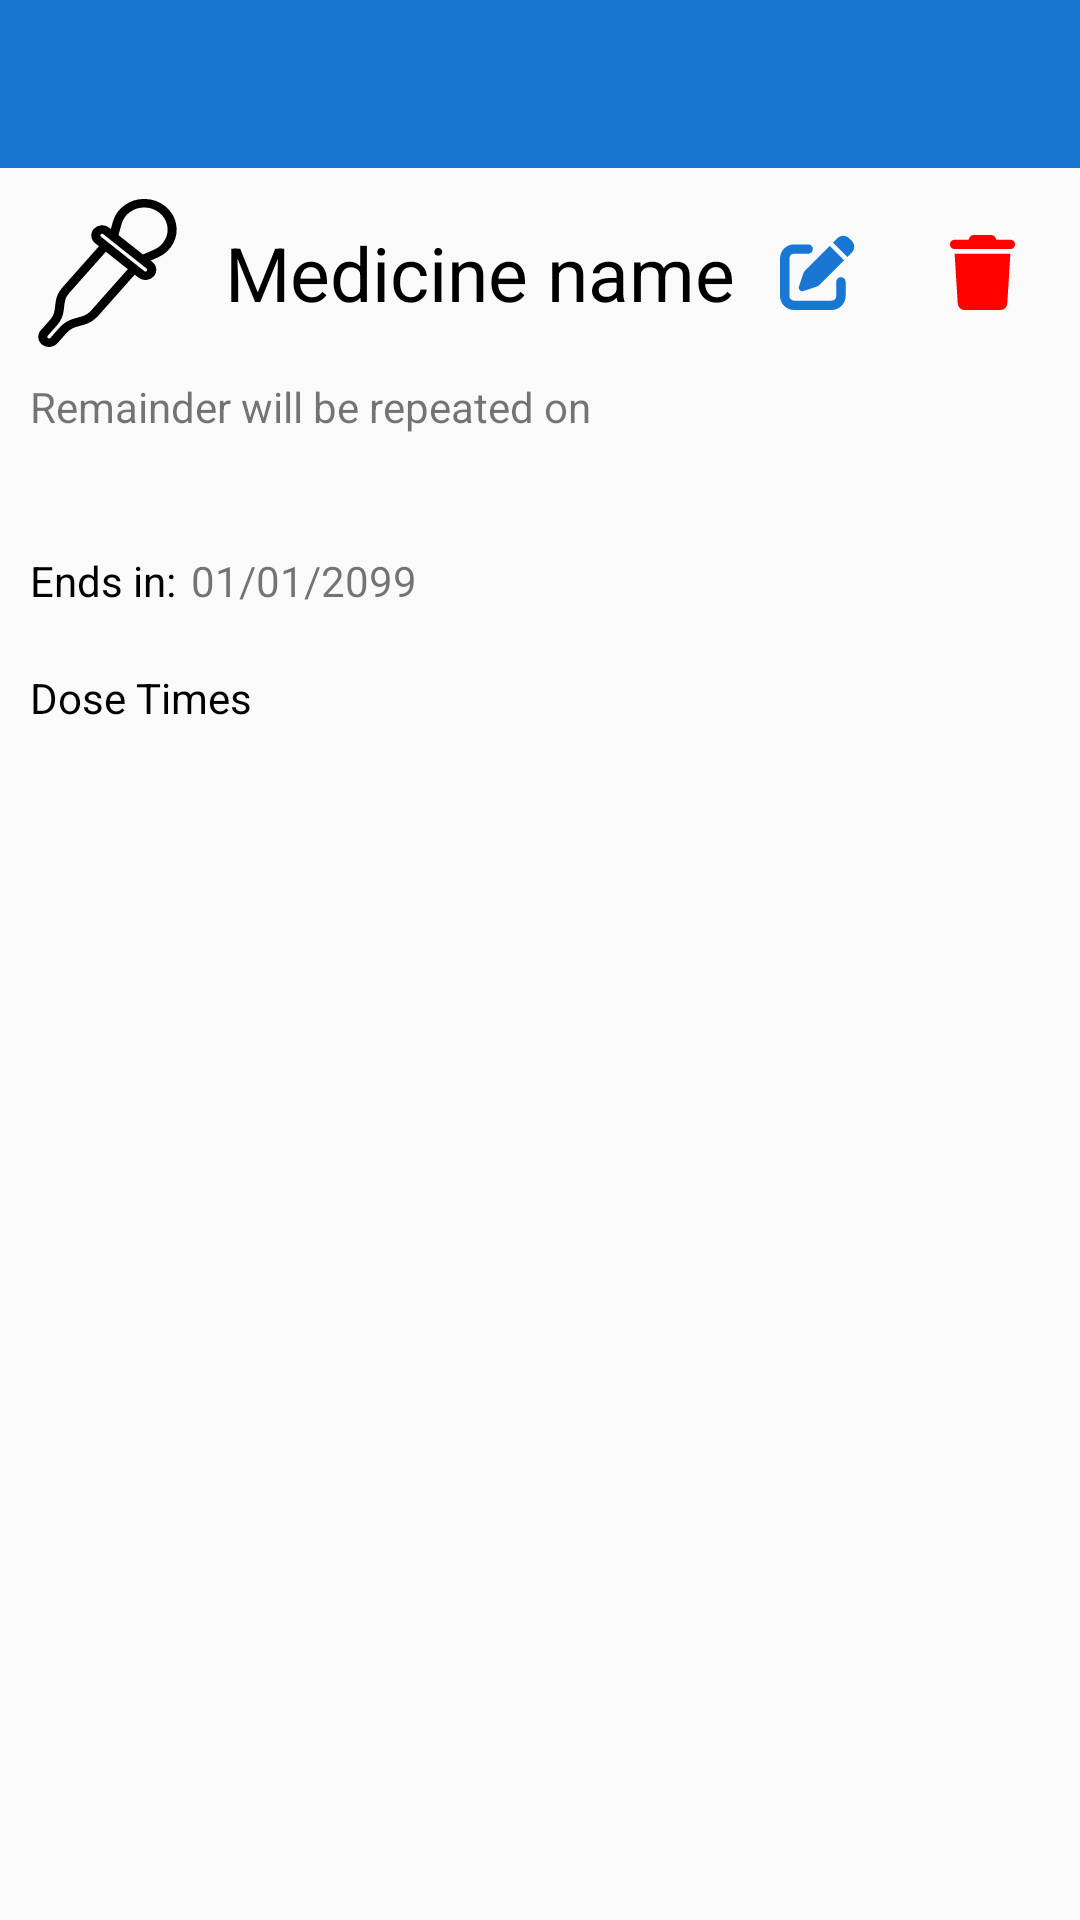

Icon bounding boxes for this 1080x1920 phone screenshot, format (x1, y1, x2, y2):
Delete: (950, 235, 1015, 310)
Edit: (780, 235, 855, 310)
shape drops: (38, 199, 177, 347)
